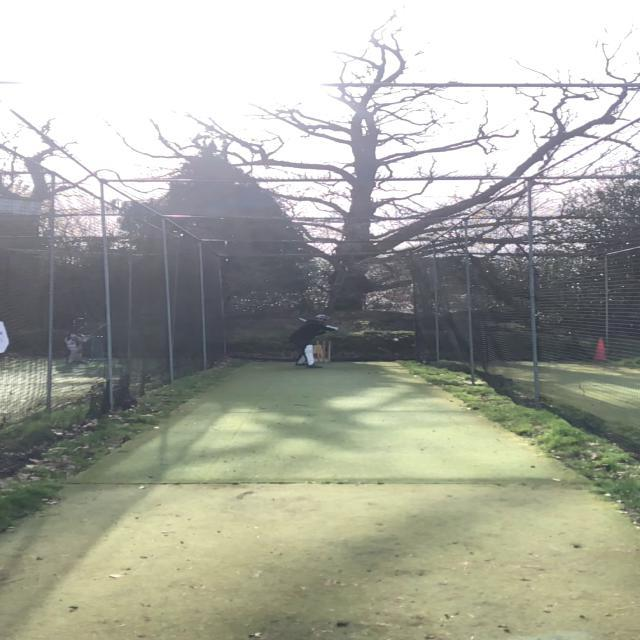ball: (393, 338, 399, 342)
